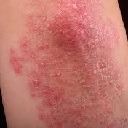Psoriasis: (28, 8, 118, 116)
